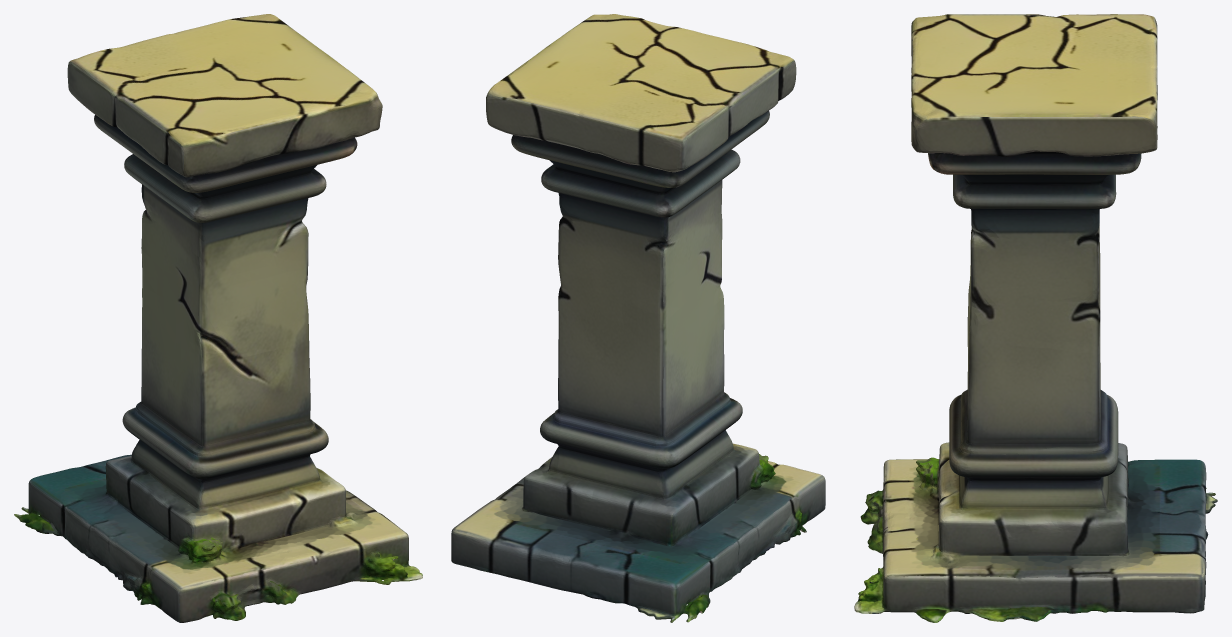
File: weathered-monolith-pillar-generated-2026-04-18t22-01-36-007z-generated-2026-04-18t22-42-43-915z-generated-2026-04-19T00-07-22-379Z.glb
3 views of the same model, side by side, from view 1: azimuth 30°, elevation 25°; view 2: azimuth 150°, elevation 25°; view 3: azimuth 270°, elevation 25° (orthographic). The views are drawn at different scales.
Visible parts, largest first — view 1: temp_mesh.ply; view 2: temp_mesh.ply; view 3: temp_mesh.ply.
Boxes of the visible parts, x1,y1,x2,y2 form: temp_mesh.ply: [14, 14, 422, 622]; temp_mesh.ply: [451, 14, 825, 622]; temp_mesh.ply: [854, 14, 1217, 622].
Size of the model in its own units: 1.17 by 1.97 by 1.32.
Materials: 1 (1 with a texture image).
